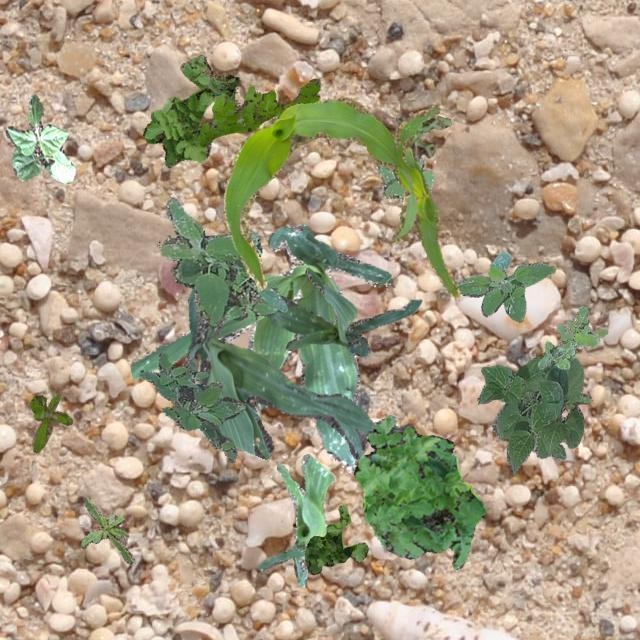crop: (130, 222, 392, 472), (222, 96, 458, 296), (182, 286, 372, 458), (266, 266, 421, 356), (476, 356, 582, 474), (256, 452, 334, 586), (5, 94, 74, 182)
weed: (352, 414, 484, 568), (158, 197, 288, 326), (138, 351, 244, 462), (142, 54, 238, 166), (198, 77, 318, 146), (454, 250, 554, 320), (303, 502, 367, 574), (536, 304, 606, 368), (80, 494, 134, 562), (376, 154, 432, 202), (28, 392, 72, 452), (396, 114, 450, 160), (562, 392, 590, 408)
